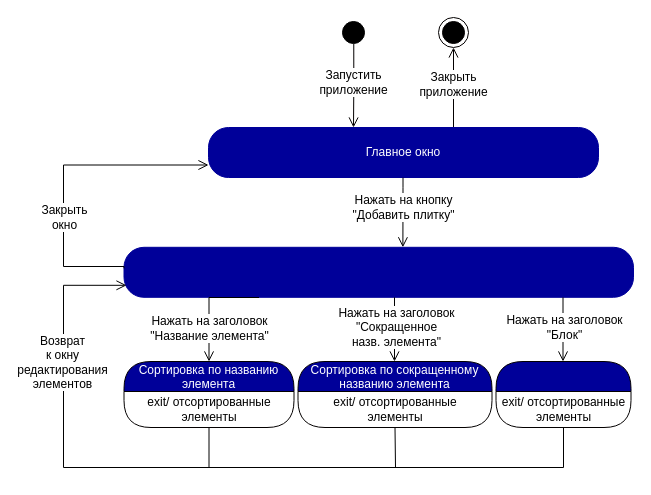
This 651x495 diagram has some shape labels left out. Each missing label, with the box of its shape:
Окно редактирования элементов: (123, 246, 634, 297)
Сортировка по блоку: (495, 360, 631, 428)
